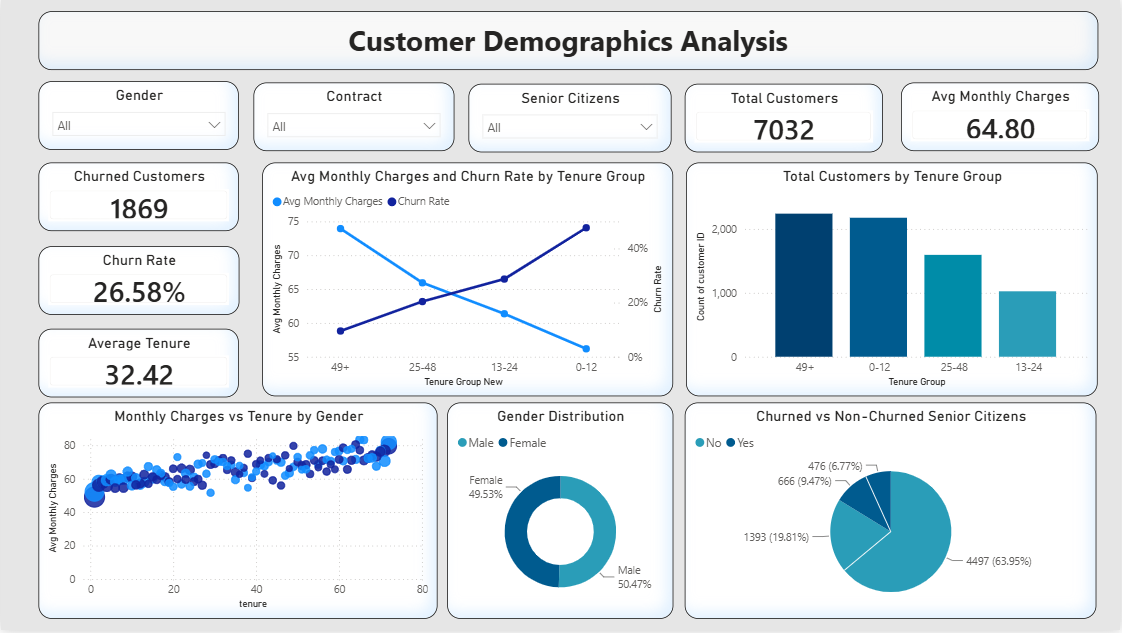

The page's visual inventory and layout, read from the dashboard file:
{"tool":"powerbi","page":{"name":"👥 Customer Demographics Analysis","canvas":[1280,720],"ordinal":1},"visuals":[{"type":"slicer","title":"Gender","fields":{"Values":["Telco-Customer-Churn.gender"]},"box":[42.2,92.9,229.2,78.2],"z":0},{"type":"slicer","title":"Contract","fields":{"Values":["Telco-Customer-Churn.Contract"]},"box":[288.3,94.1,229.2,78.4],"z":1000},{"type":"slicer","title":"Senior Citizens","fields":{"Values":["Telco-Customer-Churn.SeniorCitizen"]},"box":[534.5,95.3,231.6,78.4],"z":2000},{"type":"cardVisual","title":"Churned Customers","fields":{"Data":["Telco-Customer-Churn.Churned Customers"]},"box":[43.4,185.8,229.2,78.2],"z":3000},{"type":"cardVisual","title":"Churn Rate","fields":{"Data":["Telco-Customer-Churn.Churn Rate"]},"box":[42.2,281.1,229.2,78.4],"z":4000},{"type":"cardVisual","title":"Average Tenure","fields":{"Data":["Telco-Customer-Churn.Avg Tenure"]},"box":[42.2,375.2,229.2,78.2],"z":5000},{"type":"cardVisual","title":"Avg Monthly Charges","fields":{"Data":["Telco-Customer-Churn.Avg Monthly Charges"]},"box":[1027.9,94.1,226.4,78.2],"z":6000},{"type":"lineChart","title":"Avg Monthly Charges and Churn Rate by Tenure Group ","fields":{"Category":["Telco-Customer-Churn.Tenure Group New"],"Y":["Telco-Customer-Churn.Avg Monthly Charges"],"Y2":["Telco-Customer-Churn.Churn Rate"]},"box":[299.2,185.8,469.3,267.6],"z":7000},{"type":"columnChart","title":"Total Customers by Tenure Group","fields":{"Category":["Telco-Customer-Churn.Tenure Group New"],"Y":["CountNonNull(Telco-Customer-Churn.customer ID)"]},"box":[783,185.8,470.7,267.6],"z":8000},{"type":"scatterChart","title":"Monthly Charges vs Tenure by Gender ","fields":{"Series":["Telco-Customer-Churn.gender"],"X":["Telco-Customer-Churn.tenure"],"Size":["Telco-Customer-Churn.Total Customers"],"Y":["Telco-Customer-Churn.Avg Monthly Charges"]},"box":[43.4,459.7,456,247.3],"z":9000},{"type":"donutChart","title":"Gender Distribution","fields":{"Category":["Telco-Customer-Churn.gender"],"Y":["CountNonNull(Telco-Customer-Churn.customer ID)"]},"box":[510.3,459.7,258.2,247.3],"z":10000},{"type":"pieChart","title":"Churned vs Non-Churned Senior Citizens","fields":{"Category":["Telco-Customer-Churn.SeniorCitizen"],"Y":["Count(Telco-Customer-Churn.customer ID)"],"Series":["Telco-Customer-Churn.Churn"]},"box":[781.8,459.7,470.5,247.3],"z":11000},{"type":"cardVisual","title":"Total Customers","fields":{"Data":["Telco-Customer-Churn.Total Customers"]},"box":[781.8,95.3,226.4,78.2],"z":12000},{"type":"textbox","box":[42.2,13.3,1211.3,67.6],"z":13000}]}

Visuals, with their boxes in screenshot pixels (x1, y1, x2, y2), scaled from the page's 1280x720 canvas onto the 1122x633 screenshot:
"Gender" slicer: detection(37, 82, 238, 150)
"Contract" slicer: detection(253, 83, 454, 152)
"Senior Citizens" slicer: detection(469, 84, 672, 153)
"Churned Customers" cardVisual: detection(38, 163, 239, 232)
"Churn Rate" cardVisual: detection(37, 247, 238, 316)
"Average Tenure" cardVisual: detection(37, 330, 238, 399)
"Avg Monthly Charges" cardVisual: detection(901, 83, 1099, 151)
"Avg Monthly Charges and Churn Rate by Tenure Group " lineChart: detection(262, 163, 674, 399)
"Total Customers by Tenure Group" columnChart: detection(686, 163, 1099, 399)
"Monthly Charges vs Tenure by Gender " scatterChart: detection(38, 404, 438, 622)
"Gender Distribution" donutChart: detection(447, 404, 674, 622)
"Churned vs Non-Churned Senior Citizens" pieChart: detection(685, 404, 1098, 622)
"Total Customers" cardVisual: detection(685, 84, 884, 153)
textbox: detection(37, 12, 1099, 71)
